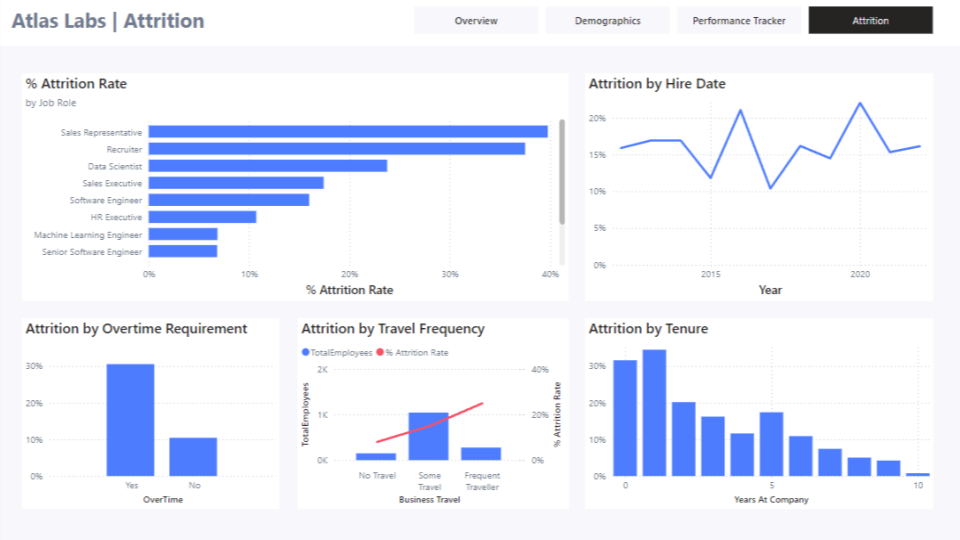

The dashboard page shown, as its layout file describes it:
{"tool":"powerbi","page":{"name":"Attrition","canvas":[1280,720],"ordinal":3},"visuals":[{"type":"clusteredBarChart","title":"% Attrition Rate","fields":{"Category":["DimEmployee.JobRole"],"Y":["_Measures.% Attrition Rate"]},"box":[29.3,99,728.3,301],"z":1000},{"type":"lineChart","title":"Attrition by Hire Date","fields":{"Y":["_Measures.% Attrition Rate Date"],"Category":["DimDate.Year"]},"box":[778.8,99,463.6,301],"z":2000},{"type":"lineStackedColumnComboChart","title":"Attrition by Travel Frequency","fields":{"Category":["DimEmployee.BusinessTravel"],"Y2":["_Measures.% Attrition Rate"],"Y":["_Measures.TotalEmployees"]},"box":[397,422.2,360.6,251.5],"z":3000},{"type":"clusteredColumnChart","title":"Attrition by Overtime Requirement","fields":{"Category":["DimEmployee.OverTime"],"Y":["_Measures.% Attrition Rate"]},"box":[29.3,422.2,343.4,251.5],"z":4000},{"type":"clusteredColumnChart","title":"Attrition by Tenure","fields":{"Category":["DimEmployee.YearsAtCompany"],"Y":["_Measures.% Attrition Rate"]},"box":[778.8,422.2,463.6,251.5],"z":5000},{"type":"shape","box":[0,0,1279.8,62.6],"z":6000},{"type":"pageNavigator","box":[551.5,11.1,690.9,36.4],"z":7000},{"type":"textbox","box":[97,5.1,258.6,51.5],"z":8000},{"type":"textbox","box":[10.1,5.1,393.9,51.5],"z":9000}]}

Visuals, with their boxes in screenshot pixels (x1, y1, x2, y2), scaled from the page's 1280x720 canvas onto the 960x540 screenshot:
"% Attrition Rate" clusteredBarChart: l=22, t=74, r=568, b=300
"Attrition by Hire Date" lineChart: l=584, t=74, r=932, b=300
"Attrition by Travel Frequency" lineStackedColumnComboChart: l=298, t=317, r=568, b=505
"Attrition by Overtime Requirement" clusteredColumnChart: l=22, t=317, r=280, b=505
"Attrition by Tenure" clusteredColumnChart: l=584, t=317, r=932, b=505
shape: l=0, t=0, r=959, b=47
pageNavigator: l=414, t=8, r=932, b=36
textbox: l=73, t=4, r=267, b=42
textbox: l=8, t=4, r=303, b=42
